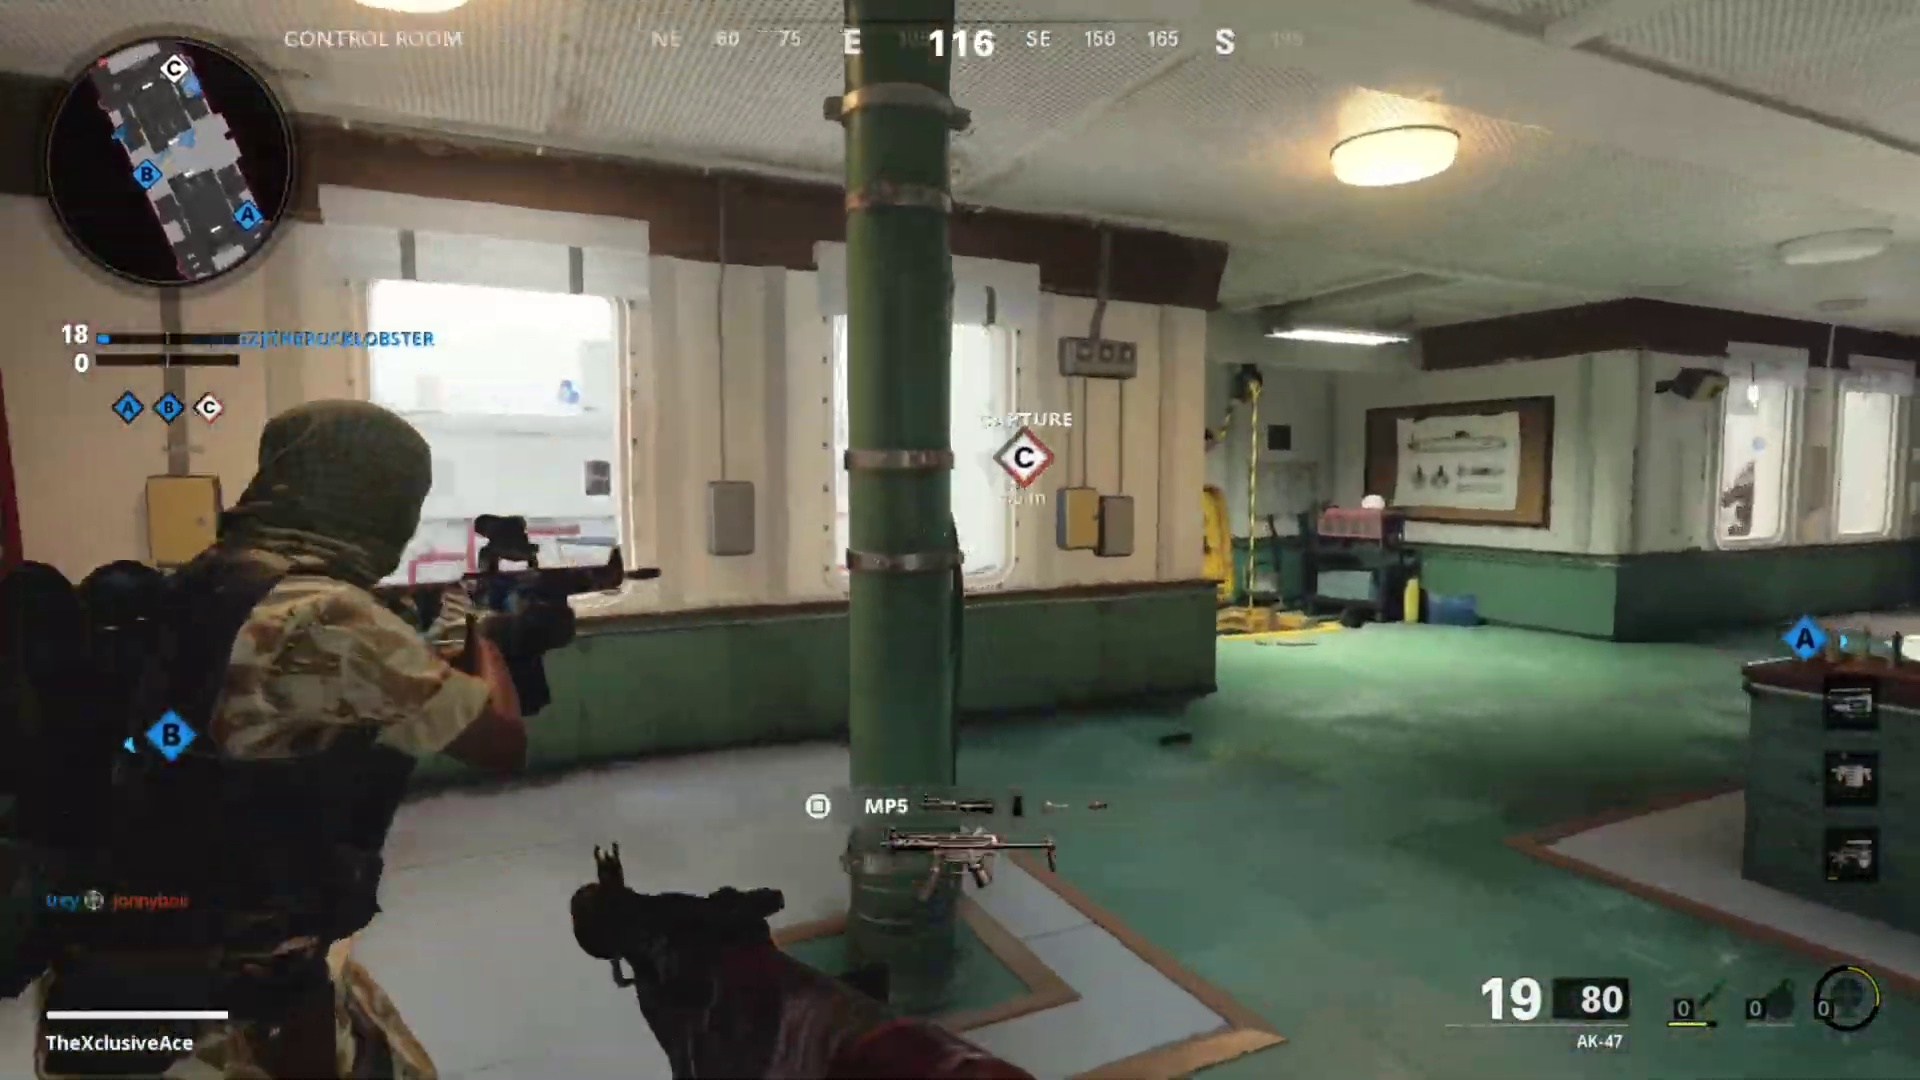head: (207, 383, 447, 617)
person: (85, 394, 568, 1060)
